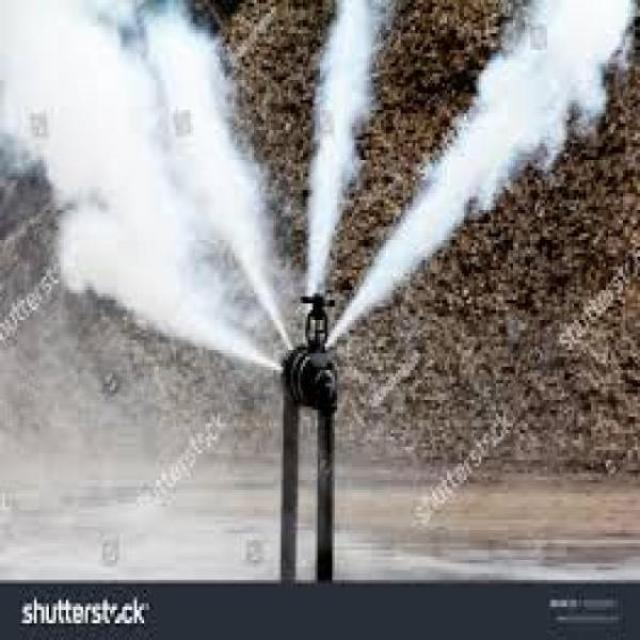corrosion: (218, 189, 404, 492)
